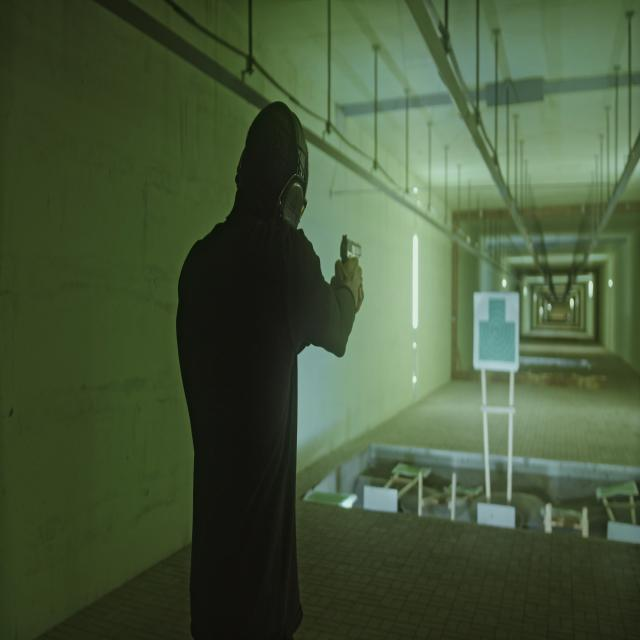Gun_Holder: (331, 230, 376, 308)
Person: (170, 94, 366, 640)
